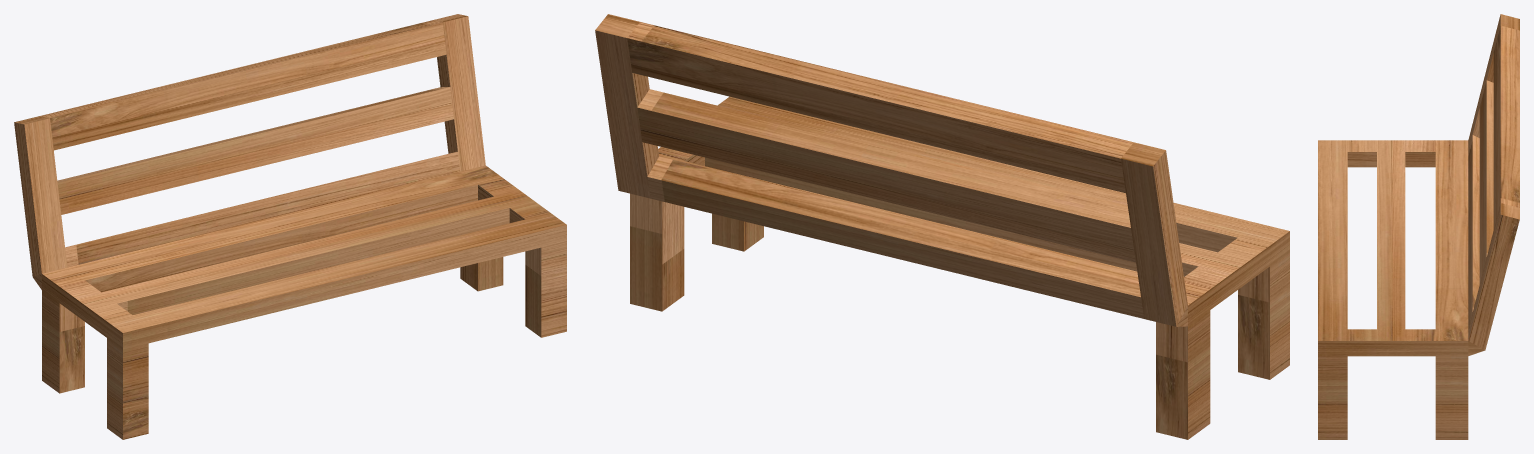
File: Bench.fbx
The picture shows the model from 3 angles, left to right: view 1: azimuth 30°, elevation 25°; view 2: azimuth 150°, elevation 25°; view 3: azimuth 270°, elevation 25°; orthographic projection. The views are drawn at different scales.
Parts seen in each view (by area): view 1: Cube; view 2: Cube; view 3: Cube.
Part boxes in pixels (x1,y1,x2,y2): Cube: (14,14,566,439); Cube: (595,14,1289,439); Cube: (1318,14,1519,439).
Bounding box in the file's own units: 632 × 331 × 269.
